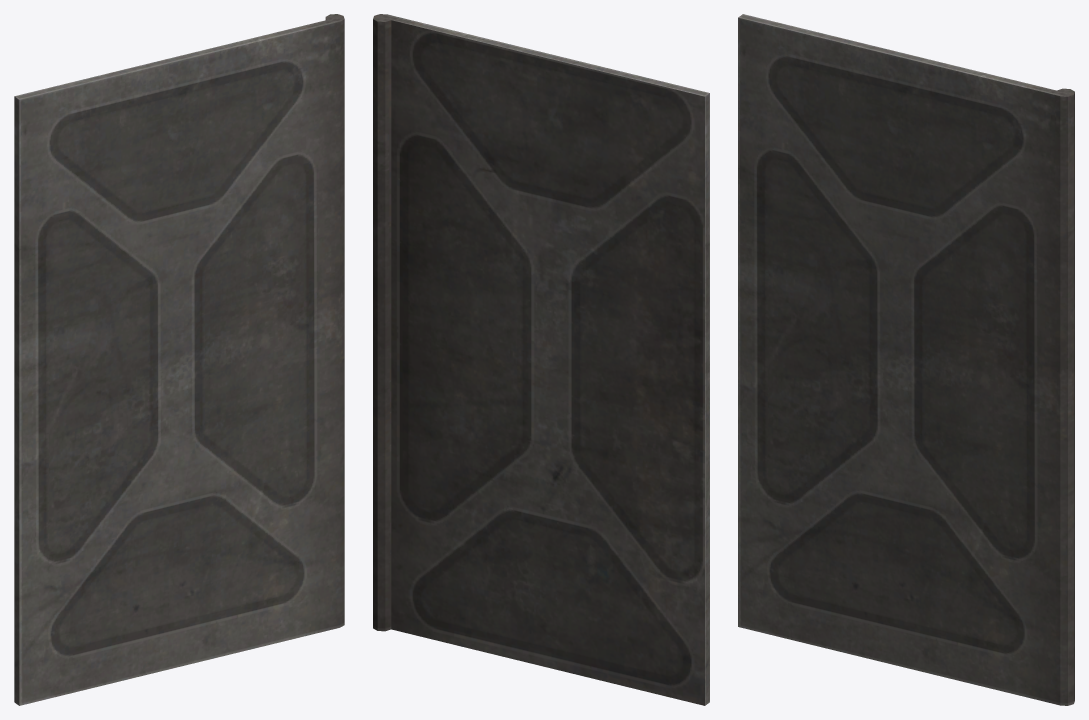
File: incubator_chip_box_door.dae
The picture shows the model from 3 angles, left to right: view 1: azimuth 30°, elevation 25°; view 2: azimuth 150°, elevation 25°; view 3: azimuth 330°, elevation 25°; orthographic projection.
Visible parts, largest first — view 1: pCylinder1; view 2: pCylinder1; view 3: pCylinder1.
Part boxes in pixels (bbox=[...]): pCylinder1: bbox=[14, 14, 344, 705]; pCylinder1: bbox=[373, 14, 709, 705]; pCylinder1: bbox=[738, 14, 1074, 705].
Bounding box in the file's own units: 0.2884 × 0.5073 × 0.0149.
